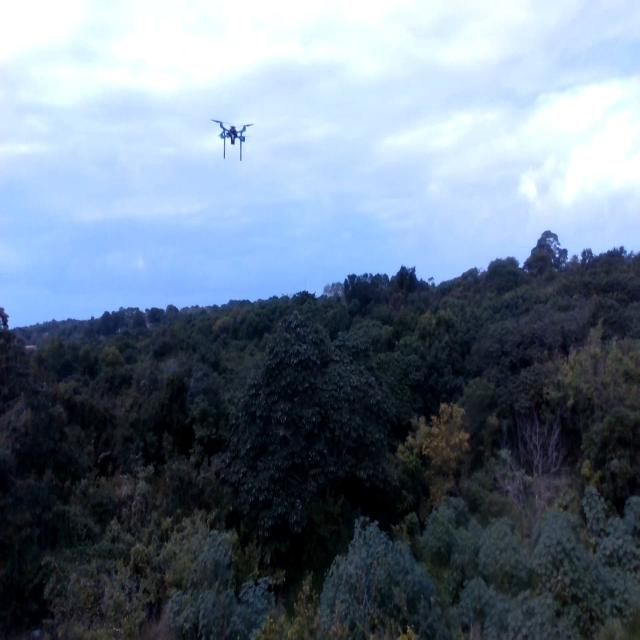-uav-: (205, 104, 259, 170)
